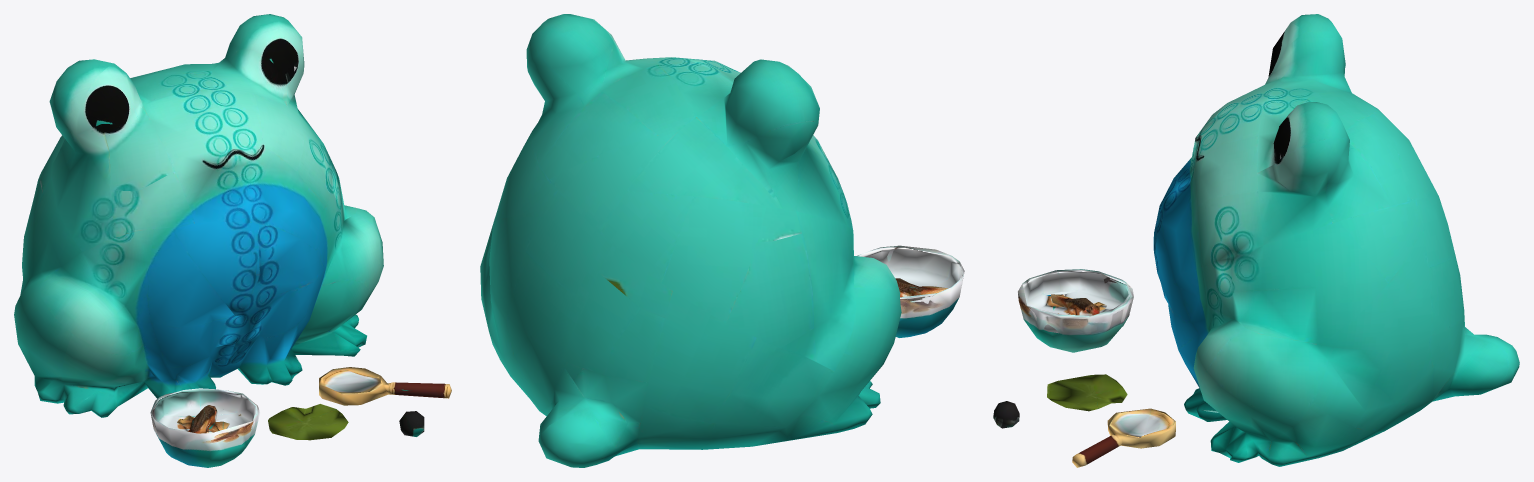
File: tetard.glb
3 renders of one model, left to right at view 1: azimuth 30°, elevation 25°; view 2: azimuth 150°, elevation 25°; view 3: azimuth 270°, elevation 25°, orthographic. The views are drawn at different scales.
Visible parts, largest first — view 1: mesh_node; view 2: mesh_node; view 3: mesh_node.
Part boxes in pixels (<box>): mesh_node: <box>14,14,451,467</box>; mesh_node: <box>480,14,964,467</box>; mesh_node: <box>993,14,1519,467</box>.
Size of the model in its own units: 1.5 by 1.3 by 1.9.
1 material, 1 textured.
